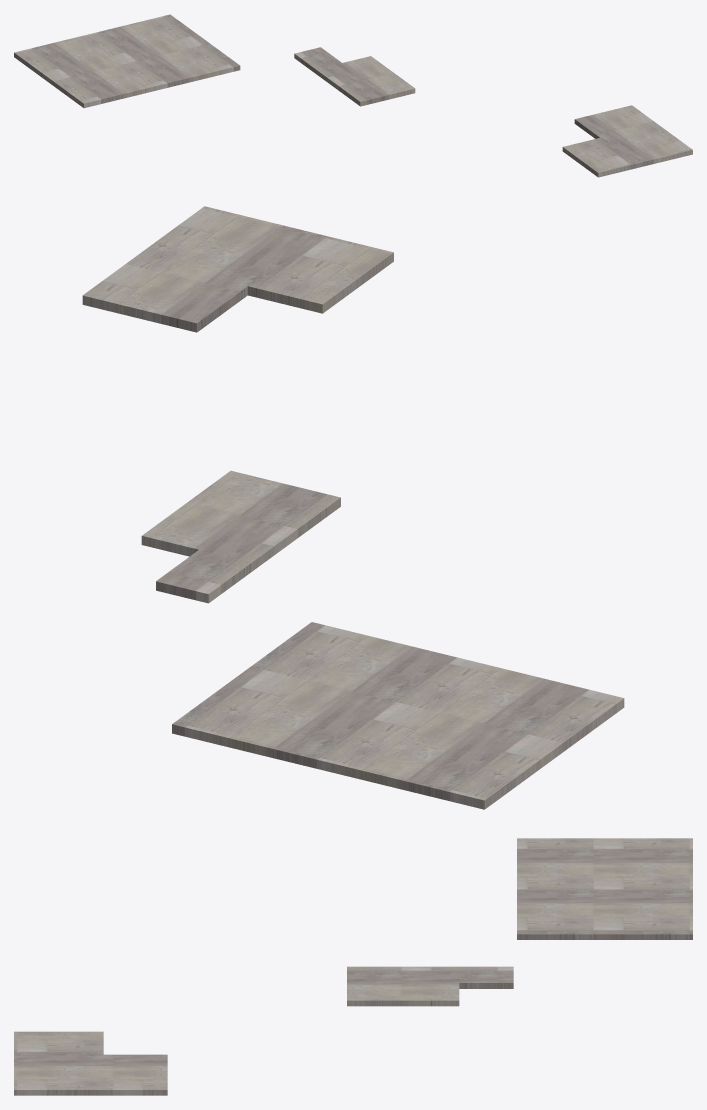
The model's file is Floor_WatercrestPinePlusReclaimedPine_.glb.
The picture shows the model from 3 angles, top to bottom: view 1: azimuth 30°, elevation 25°; view 2: azimuth 150°, elevation 25°; view 3: azimuth 270°, elevation 25°; orthographic projection. The views are drawn at different scales.
Parts seen in each view (by area): view 1: Floors_watercrest_pine_plus_reclaimed_pine; view 2: Floors_watercrest_pine_plus_reclaimed_pine; view 3: Floors_watercrest_pine_plus_reclaimed_pine.
Part boxes in pixels (bbox=[...]): Floors_watercrest_pine_plus_reclaimed_pine: bbox=[14, 14, 692, 177]; Floors_watercrest_pine_plus_reclaimed_pine: bbox=[82, 206, 624, 809]; Floors_watercrest_pine_plus_reclaimed_pine: bbox=[14, 838, 692, 1095].
Bounding box in the file's own units: 18.6 × 0.2 × 21.2.
Materials: 1 (1 with a texture image).
